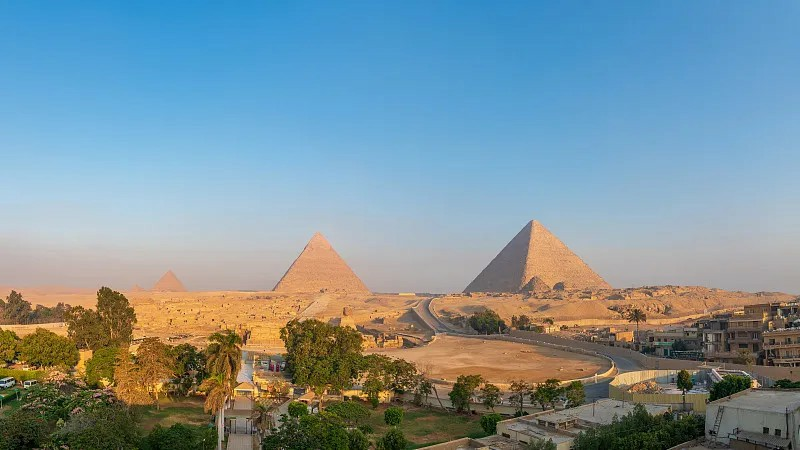Pyramid: (460, 220, 617, 290), (271, 233, 373, 292), (150, 271, 188, 288)
